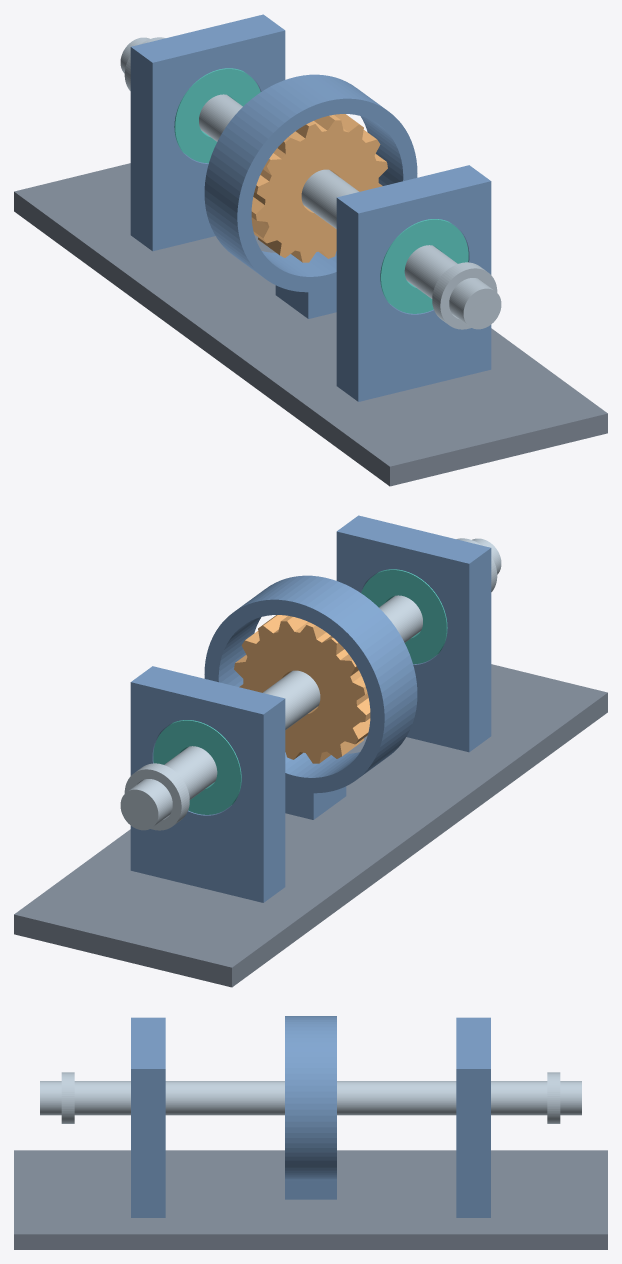
File: assembly.glb
3 renders of one model, top to bottom at view 1: azimuth 30°, elevation 25°; view 2: azimuth 150°, elevation 25°; view 3: azimuth 270°, elevation 25°, orthographic. The views are drawn at different scales.
Parts seen in each view (by area): view 1: base, rear_housing, guard, front_housing, gear, shaft, rear_bearing, front_bearing, rear_retainer; view 2: base, front_housing, guard, rear_housing, gear, shaft, front_bearing, rear_bearing, front_retainer; view 3: base, shaft, guard, front_housing, rear_housing, front_retainer, rear_retainer.
Part boxes in pixels (left/top/right/bottom): base: left=14, top=163, right=607, bottom=486; rear_housing: left=336, top=165, right=491, bottom=401; guard: left=204, top=74, right=417, bottom=318; front_housing: left=130, top=14, right=285, bottom=251; gear: left=251, top=114, right=387, bottom=262; shaft: left=120, top=37, right=501, bottom=329; rear_bearing: left=380, top=219, right=468, bottom=313; front_bearing: left=174, top=68, right=260, bottom=163; rear_retainer: left=432, top=262, right=497, bottom=329; base: left=14, top=664, right=607, bottom=987; front_housing: left=130, top=666, right=285, bottom=902; guard: left=204, top=575, right=417, bottom=819; rear_housing: left=336, top=515, right=491, bottom=752; gear: left=234, top=615, right=370, bottom=763; shaft: left=120, top=538, right=501, bottom=830; front_bearing: left=153, top=720, right=241, bottom=814; rear_bearing: left=361, top=569, right=447, bottom=664; front_retainer: left=124, top=763, right=189, bottom=830; base: left=14, top=1150, right=607, bottom=1249; shaft: left=40, top=1081, right=581, bottom=1115; guard: left=285, top=1016, right=336, bottom=1199; front_housing: left=456, top=1017, right=490, bottom=1217; rear_housing: left=131, top=1017, right=165, bottom=1217; front_retainer: left=547, top=1072, right=560, bottom=1123; rear_retainer: left=61, top=1072, right=74, bottom=1123.
Bounding box in the file's own units: 0.0495 × 0.0506 × 0.1479.
